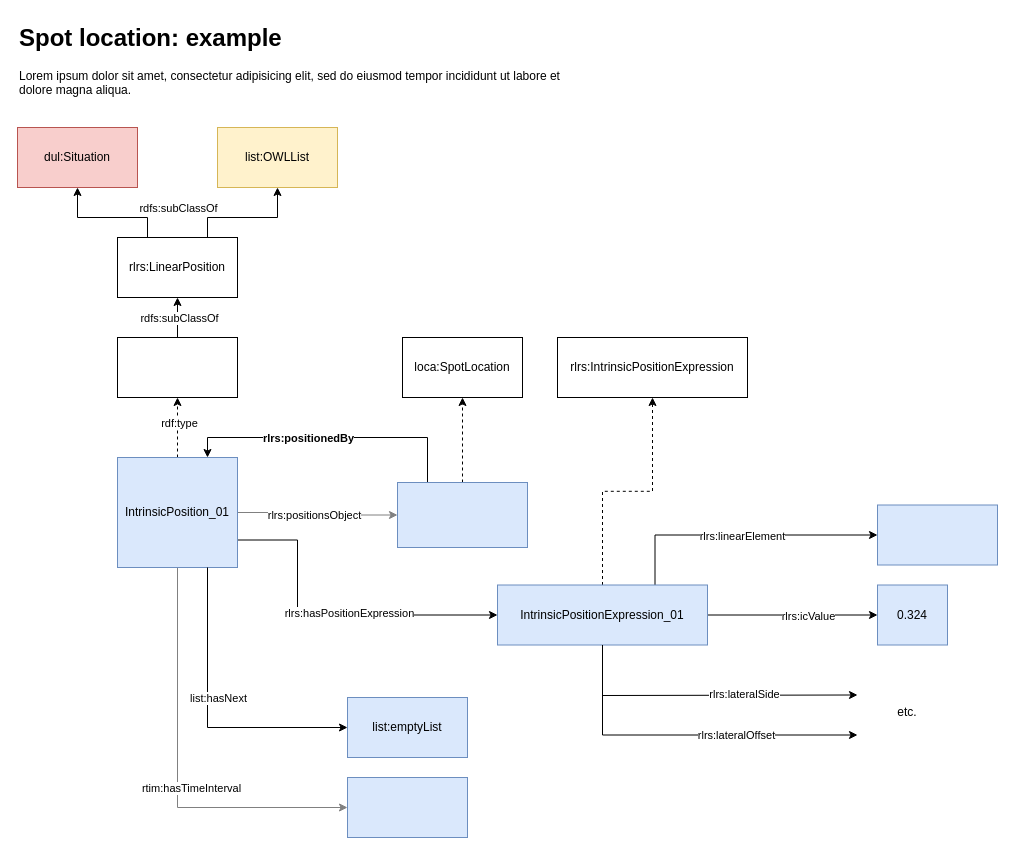
The diagram is 1015 pixels wide and 855 high, and some of its shapes have lost their labels. Here are the shapes that lost their labels. From the top down, the centre of each, then its label:
the point at 177,367: rlrs:IntrinsicPosition
the point at 462,515: SpotLocation_01
the point at 937,534: LinearElement_X
the point at 407,807: TimeInterval_01
